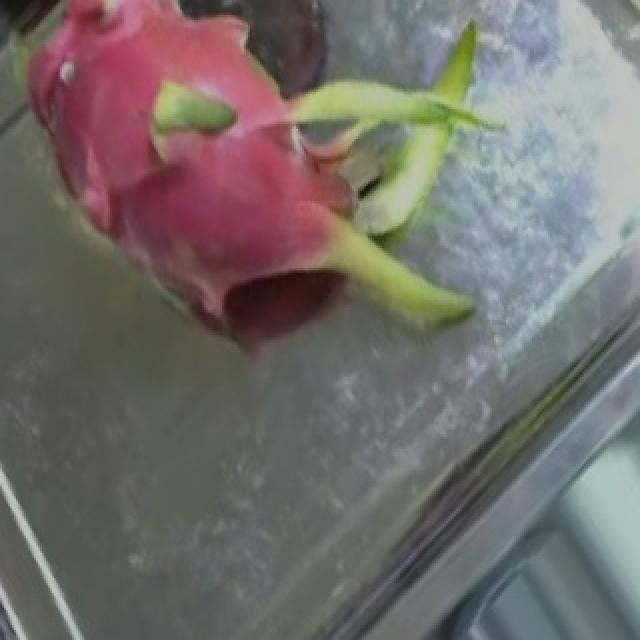fruit: (186, 0, 578, 424), (0, 0, 340, 412)
